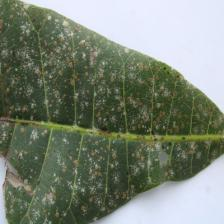red rust: (0, 0, 223, 223)
